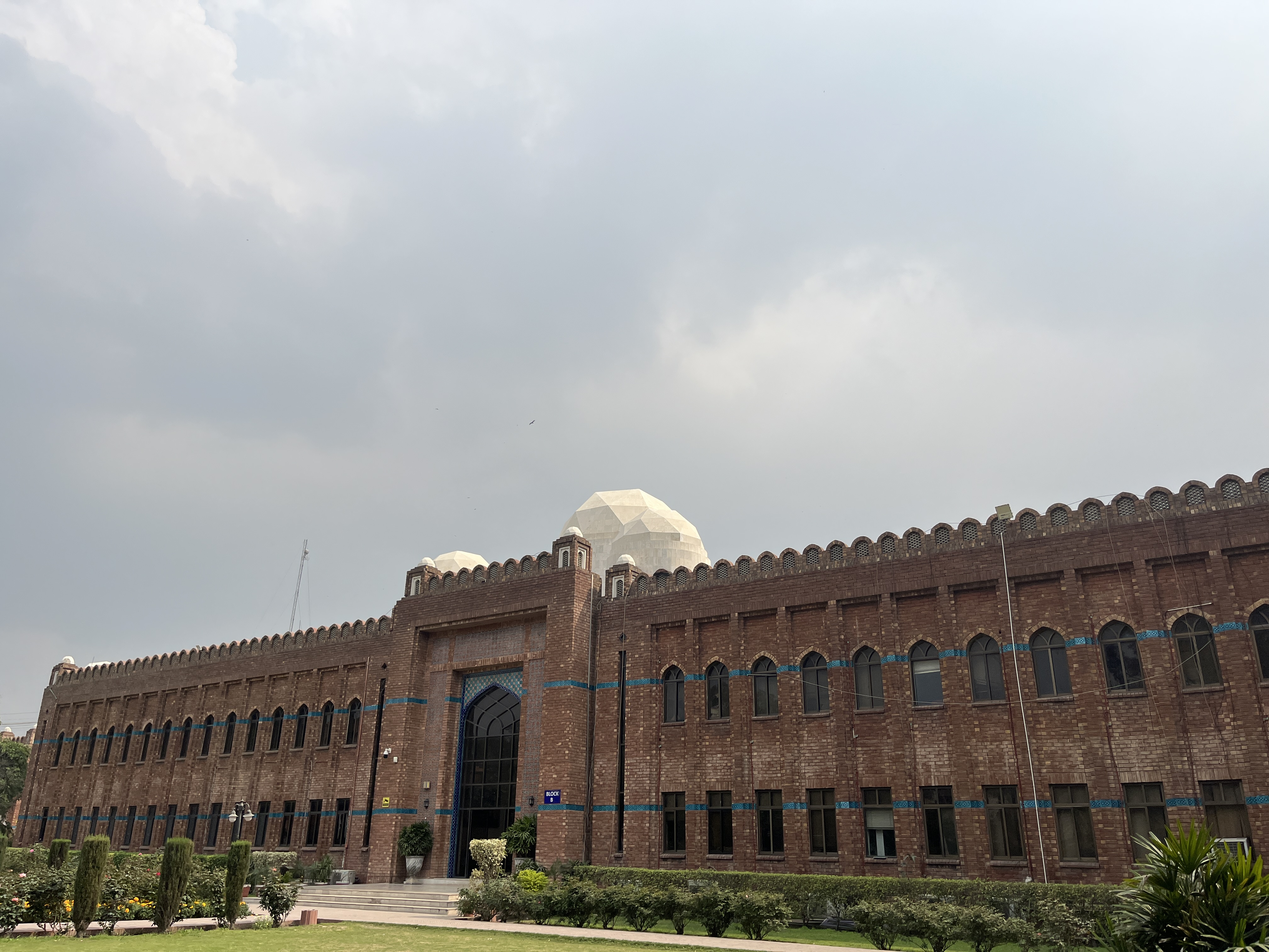Block B: (19, 486, 1269, 883)
